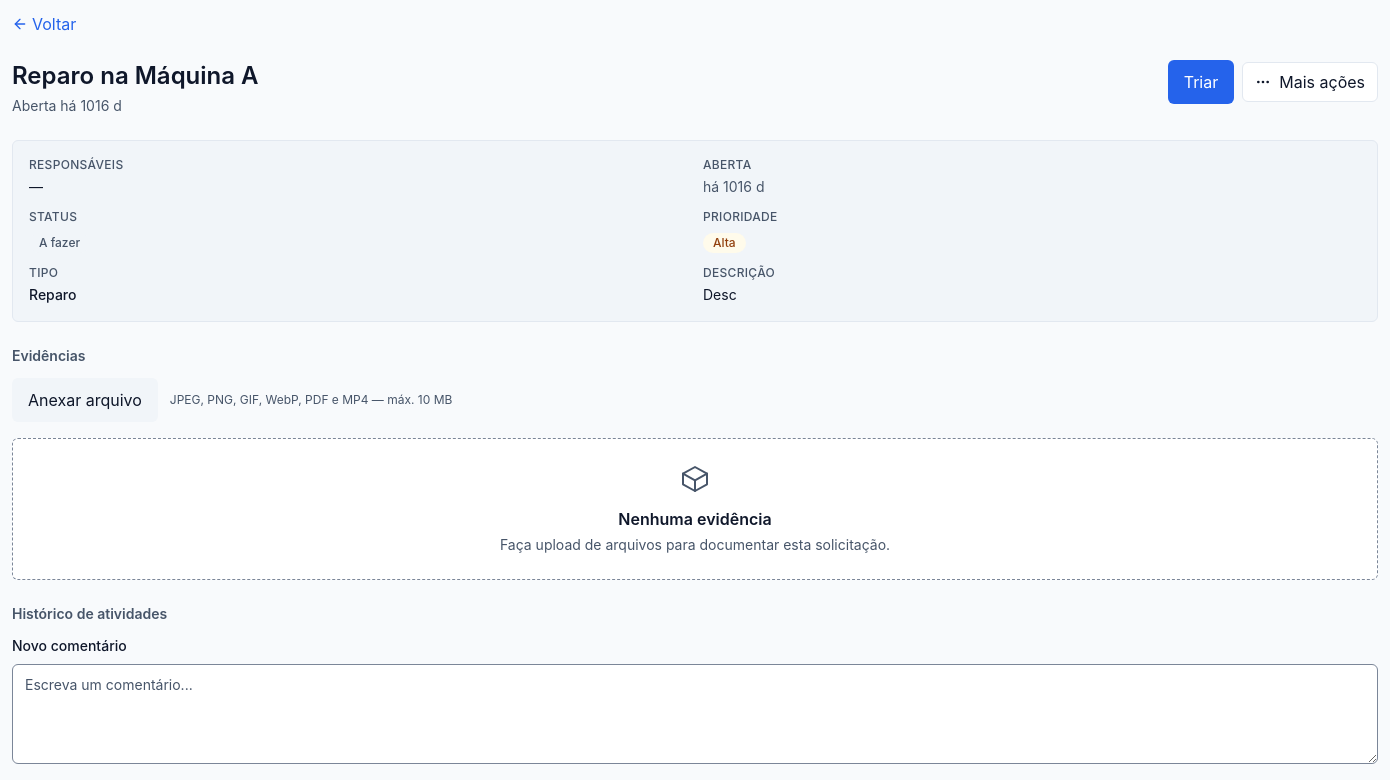
SolicitacaoDetalhePage › deve listar Editar em Mais ações quando o gestor pode editar e há outras ações
The image size is (1390, 780).
Click the button "Mais ações" at (1310, 82), box top-left (1242, 62), bottom-right (1378, 102)
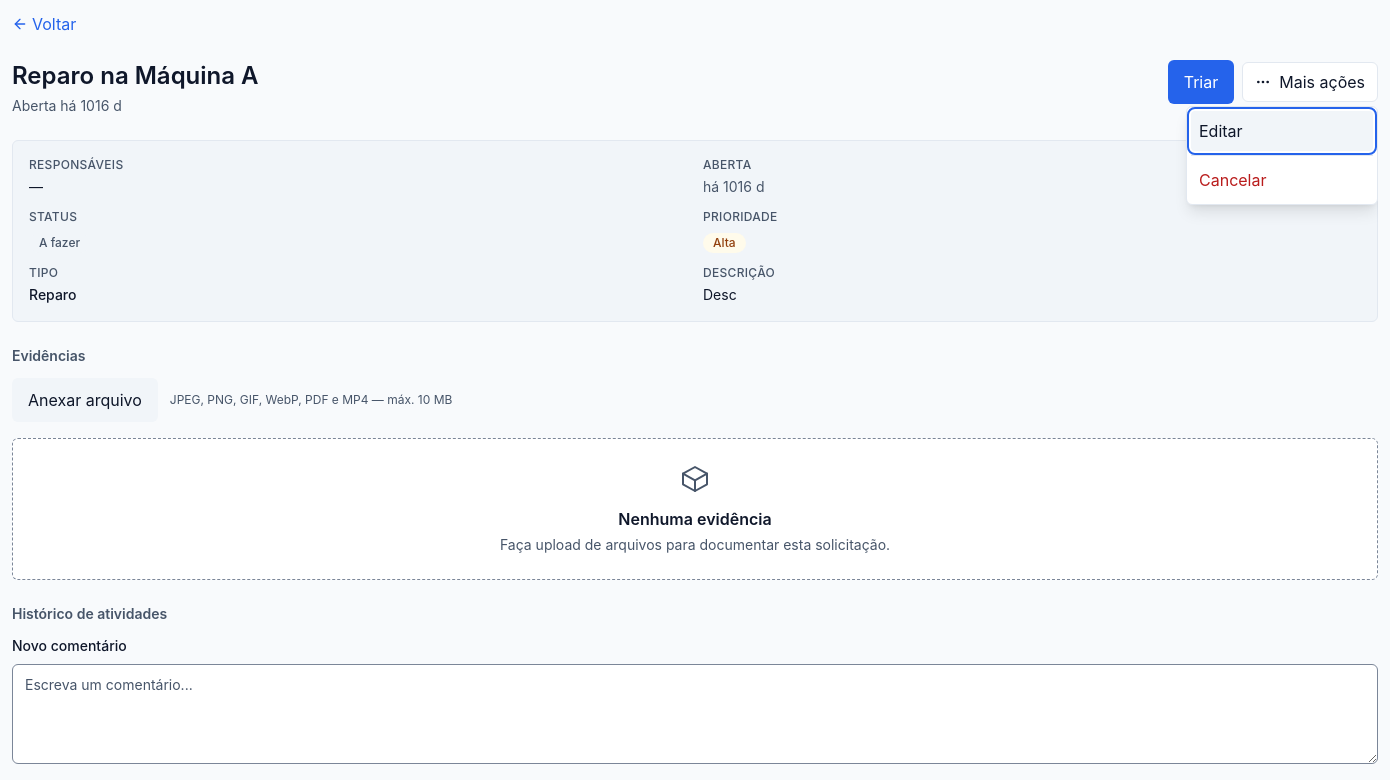
Result: the menu item "Editar" is shown at top-left (1191, 111), bottom-right (1373, 151)
